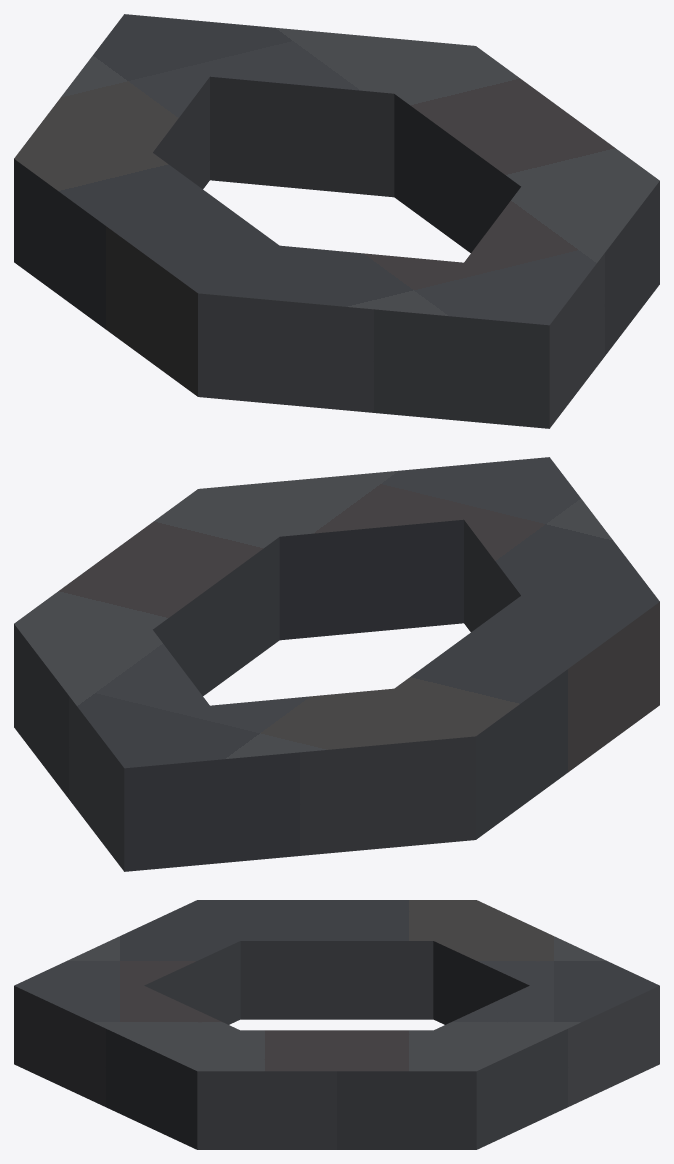
The model's file is ChainLink.fbx.
3 views of the same model, one above another, from view 1: azimuth 30°, elevation 25°; view 2: azimuth 150°, elevation 25°; view 3: azimuth 270°, elevation 25° (orthographic). The views are drawn at different scales.
Parts seen in each view (by area): view 1: ChainLink; view 2: ChainLink; view 3: ChainLink.
Part boxes in pixels (box(x1,y1,x2,y2)): ChainLink: box(14, 14, 659, 428); ChainLink: box(14, 457, 659, 871); ChainLink: box(14, 900, 659, 1149).
Size of the model in its own units: 17.5 by 3.75 by 27.9.
1 material, 1 textured.
